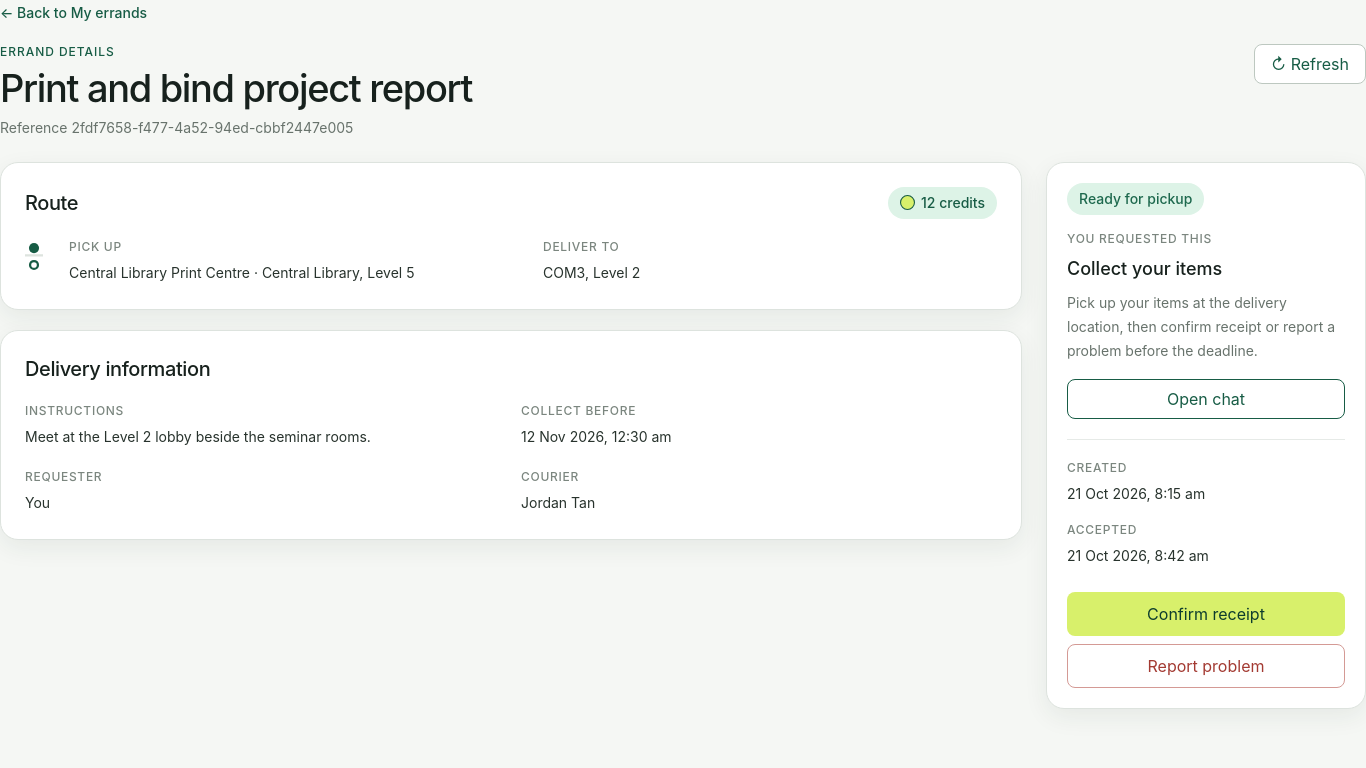
it: ErrandDetailsPage › confirms receipt after the courier handoff
Click the button "Confirm receipt". click: [1206, 614]
box: [1067,592,1345,636]
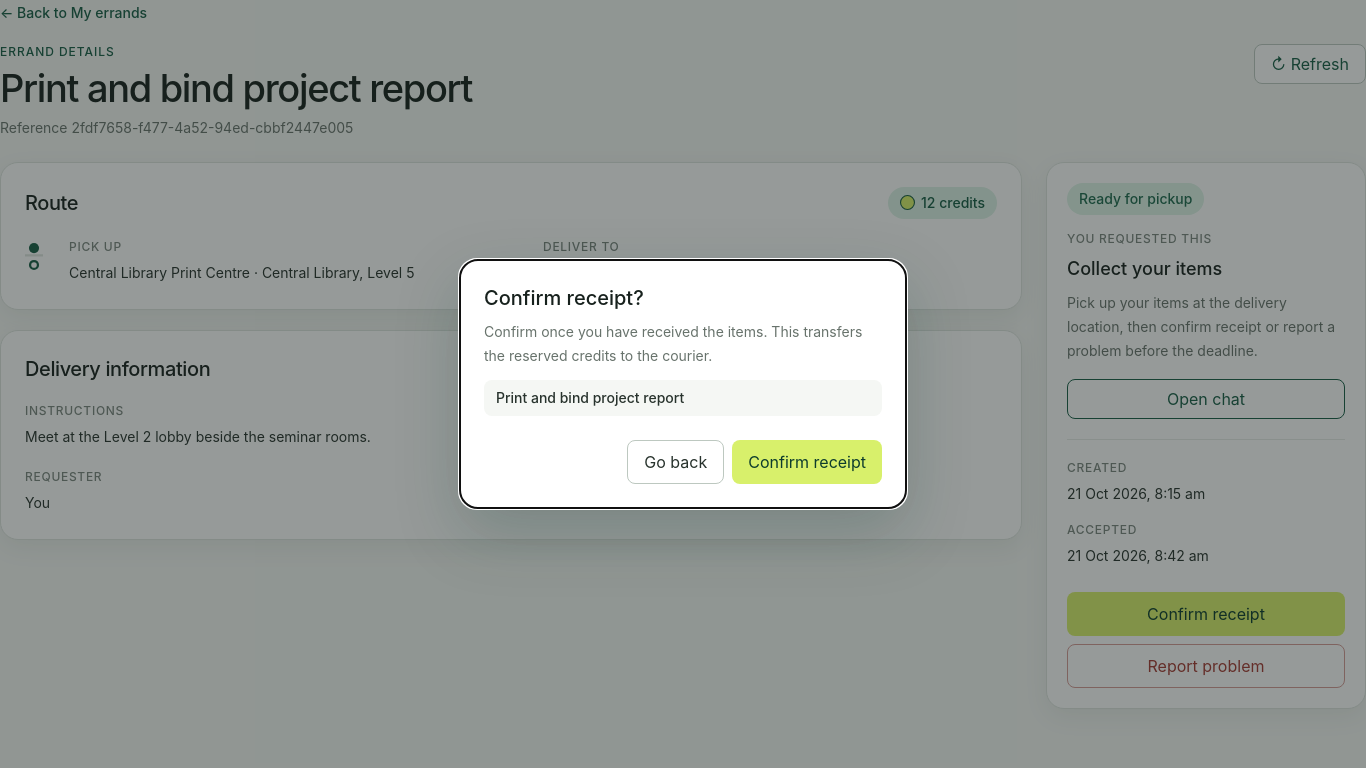
Click the button "Confirm receipt". click: [807, 462]
box: [732,440,882,484]
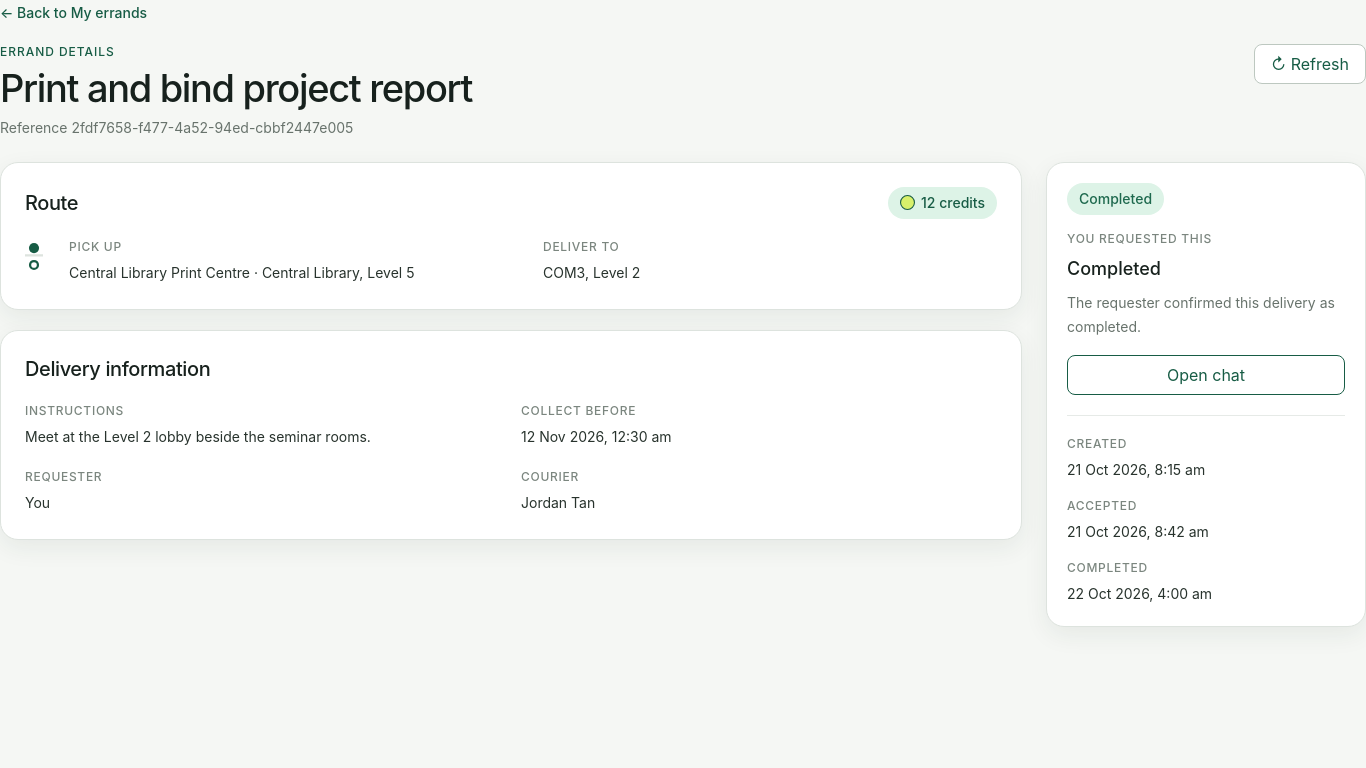
Now the heading "Completed" is shown, box [1067,258,1161,279]
